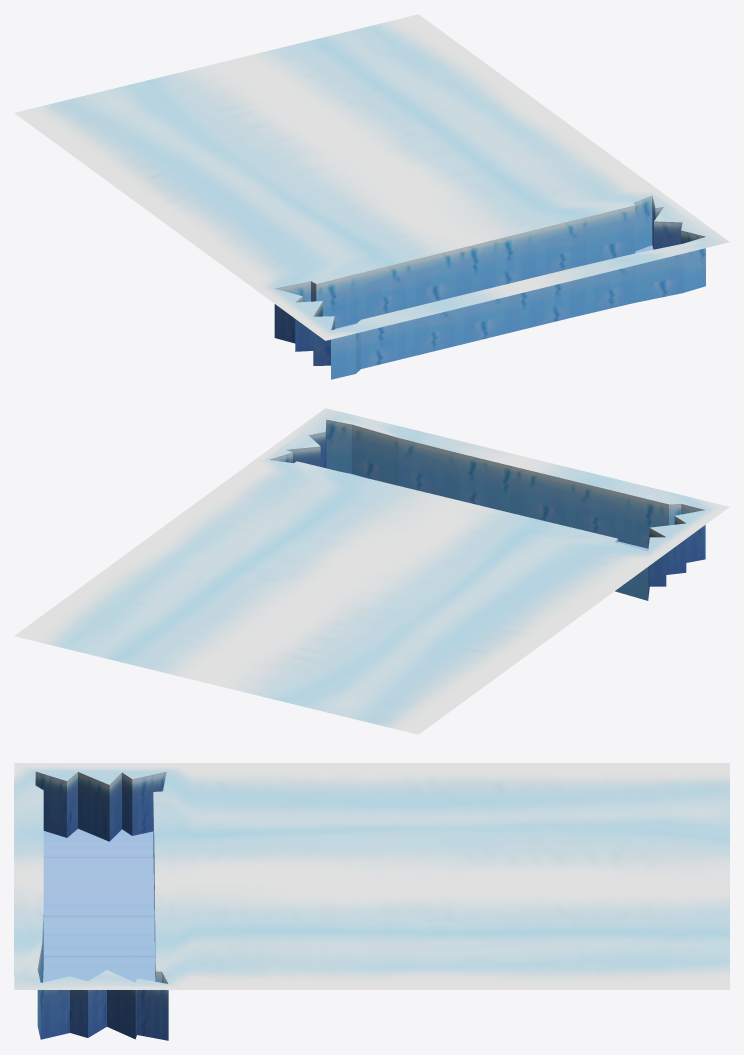
File: Hole_L_L_01.FBX
3 views of the same model, one above another, from view 1: azimuth 30°, elevation 25°; view 2: azimuth 150°, elevation 25°; view 3: azimuth 270°, elevation 25° (orthographic). The views are drawn at different scales.
Visible parts, largest first — view 1: Object132; view 2: Object132; view 3: Object132.
Boxes of the visible parts, <box> form: Object132: <box>14,14,729,379</box>; Object132: <box>14,408,729,734</box>; Object132: <box>14,763,729,1040</box>.
Size of the model in its own units: 600 by 70 by 800.
